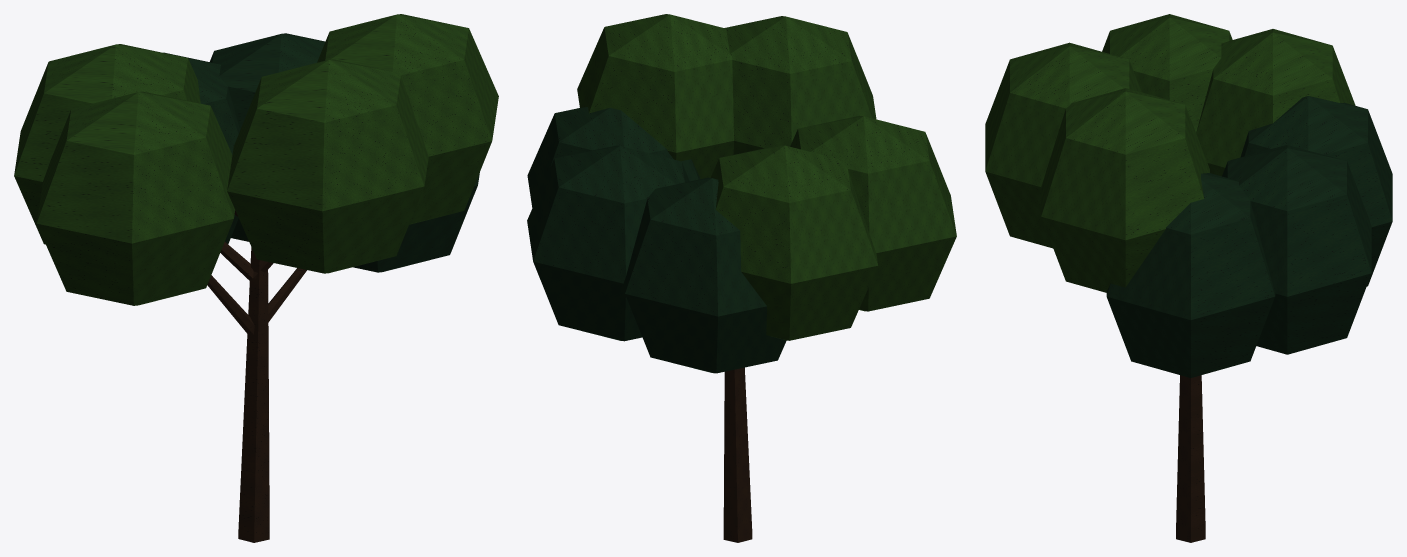
The model's file is PROP-2AABEECDD263_lod2.glb.
3 renders of one model, left to right at view 1: azimuth 30°, elevation 25°; view 2: azimuth 150°, elevation 25°; view 3: azimuth 270°, elevation 25°, orthographic. The views are drawn at different scales.
Parts seen in each view (by area): view 1: leaf_crown.057, leaf_crown.056, trunk.050, branch.032; view 2: leaf_crown.057, leaf_crown.056, trunk.050; view 3: leaf_crown.057, leaf_crown.056, trunk.050.
Part boxes in pixels (x1,y1,x2,y2): leaf_crown.057: (14, 14, 498, 305); leaf_crown.056: (163, 33, 479, 272); trunk.050: (238, 247, 269, 542); branch.032: (207, 210, 306, 334); leaf_crown.057: (577, 14, 956, 340); leaf_crown.056: (527, 107, 786, 373); trunk.050: (723, 367, 752, 542); leaf_crown.057: (985, 14, 1355, 292); leaf_crown.056: (1106, 96, 1392, 377); trunk.050: (1176, 375, 1205, 542).
Size of the model in its own units: 7.02 by 7.6 by 5.67.
3 materials, 3 textured.
